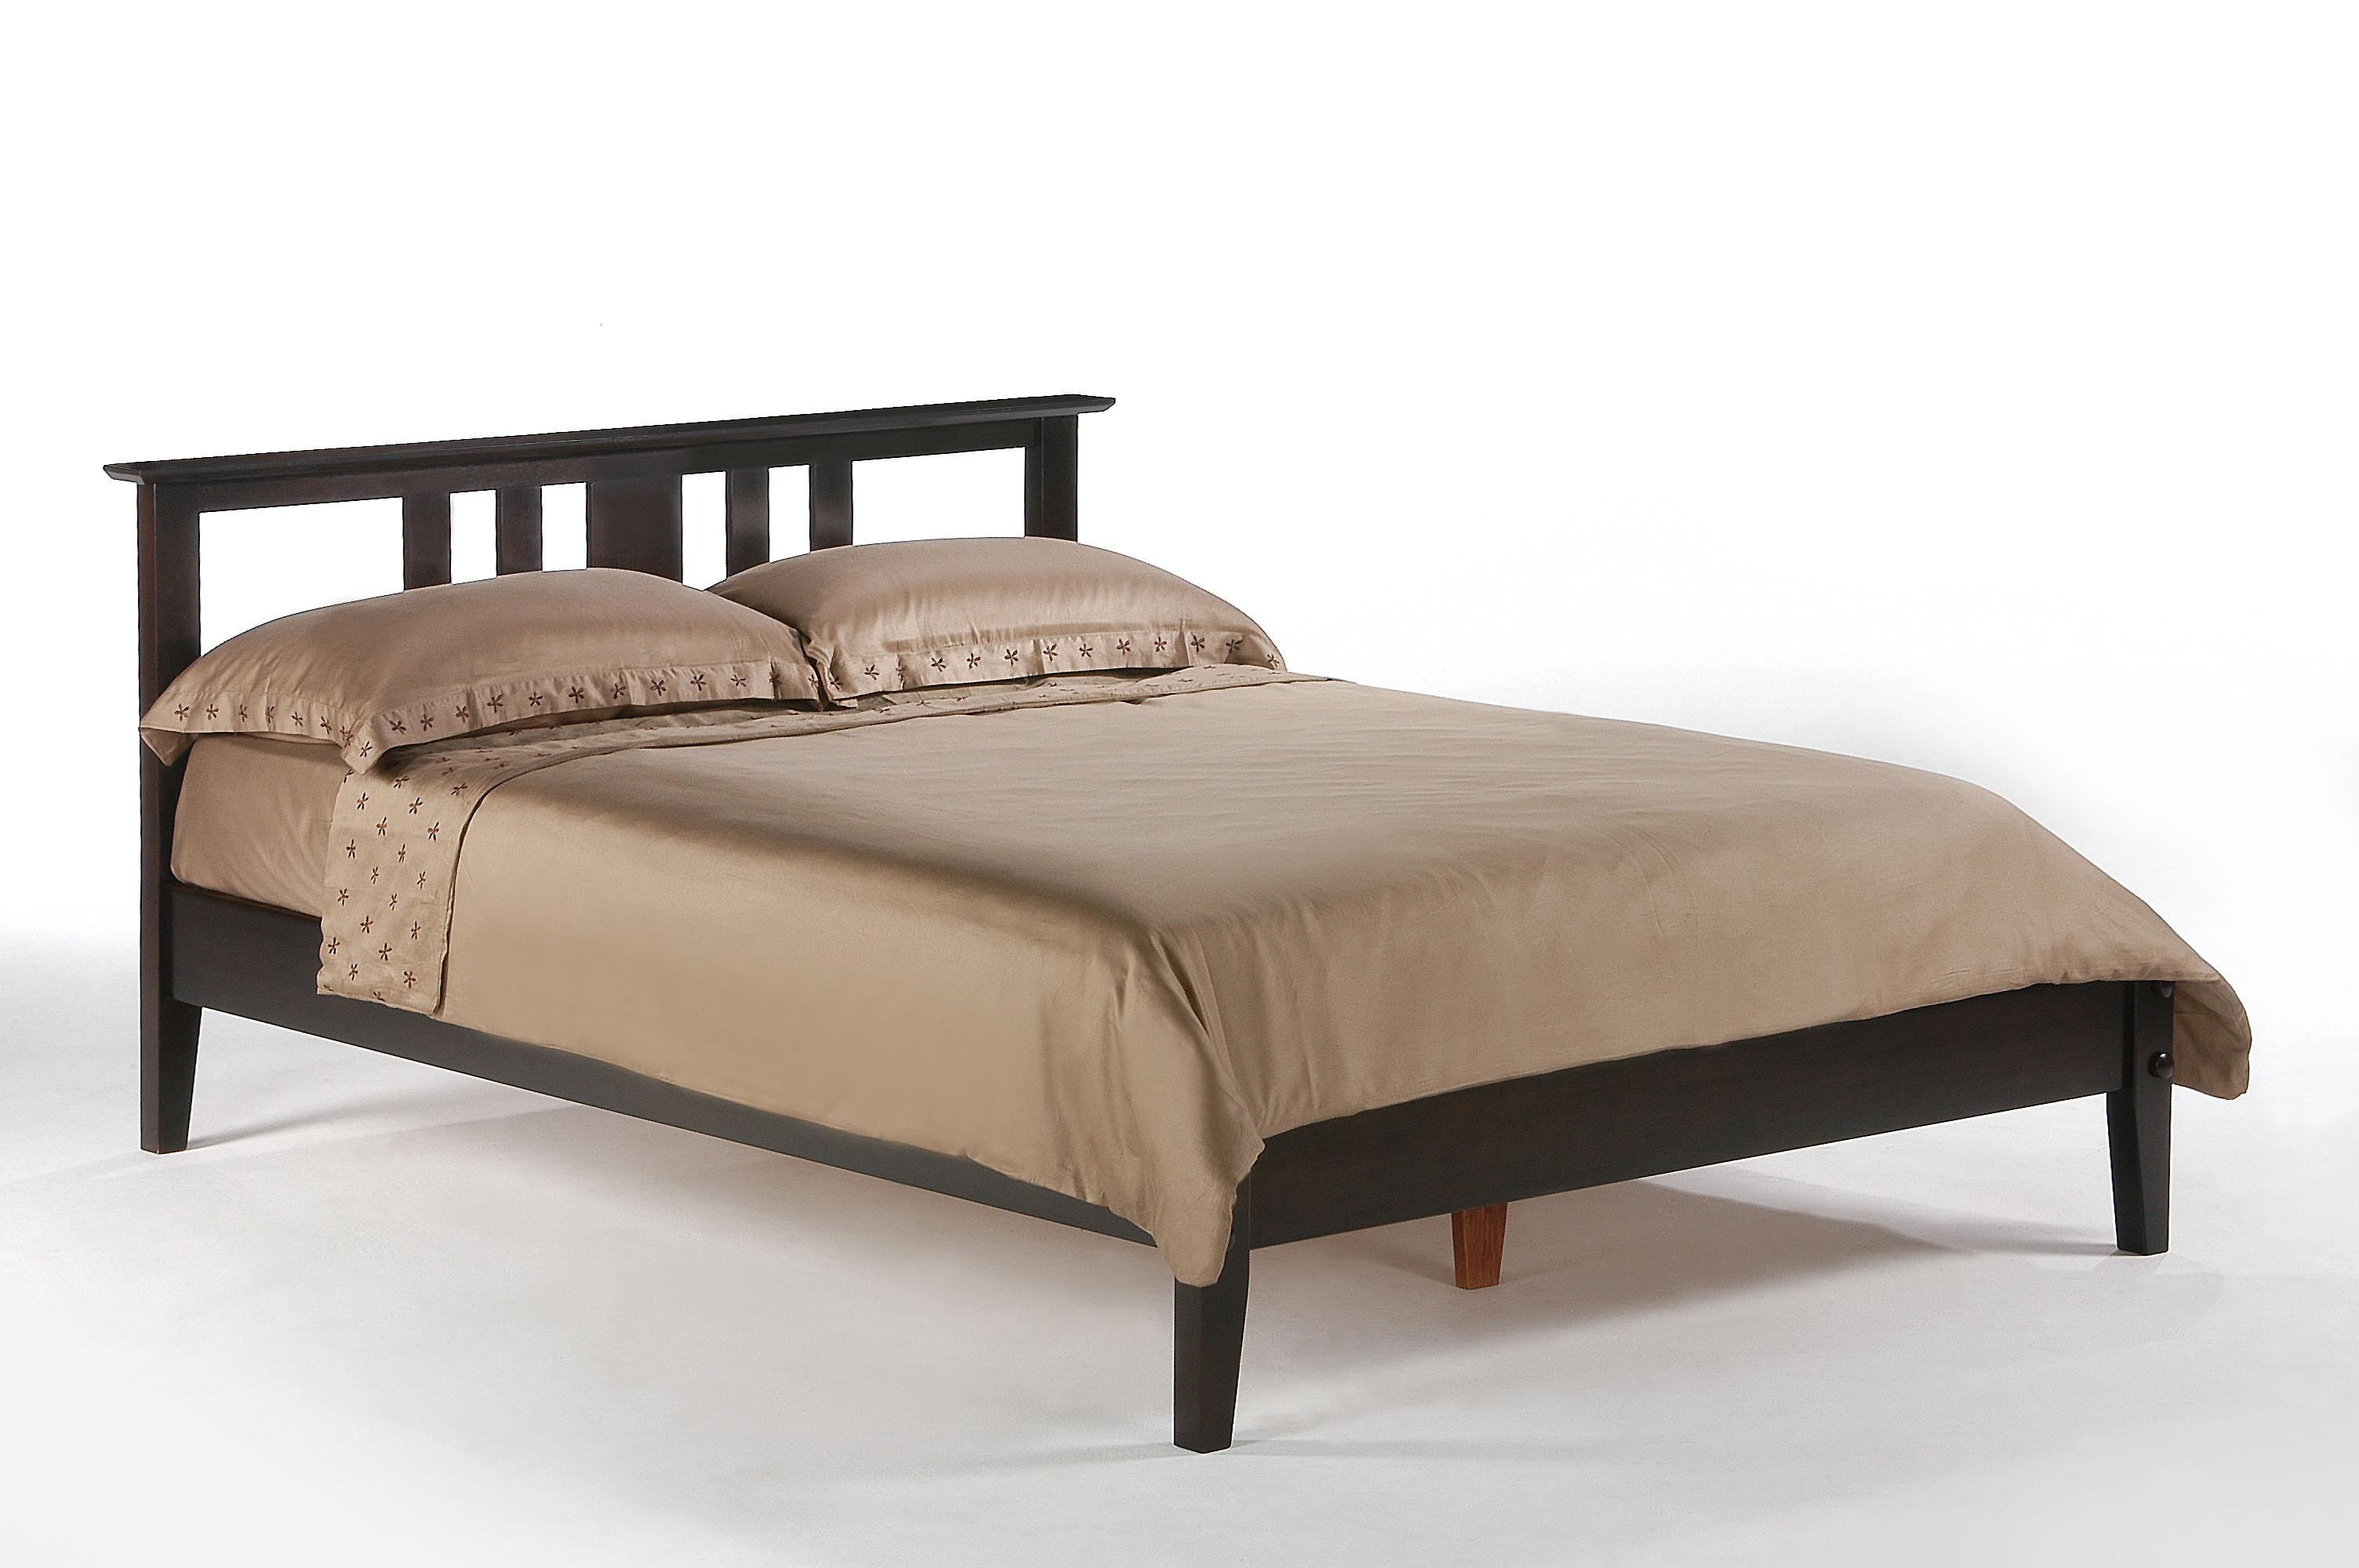bed: (84, 364, 2312, 1467)
